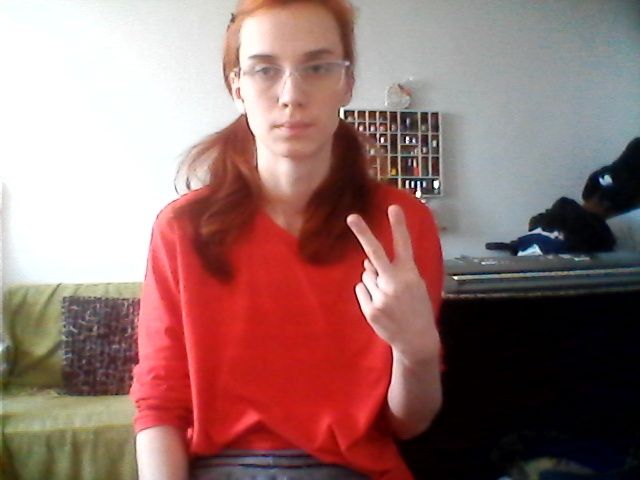v: (325, 199, 458, 362)
